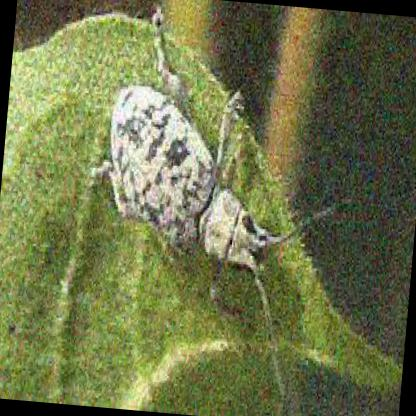ash weevil: (92, 9, 348, 339)
